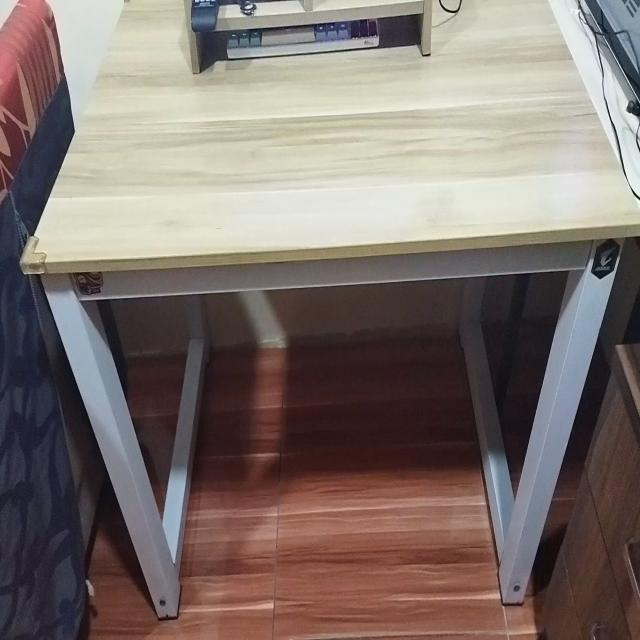table: (17, 0, 640, 611)
